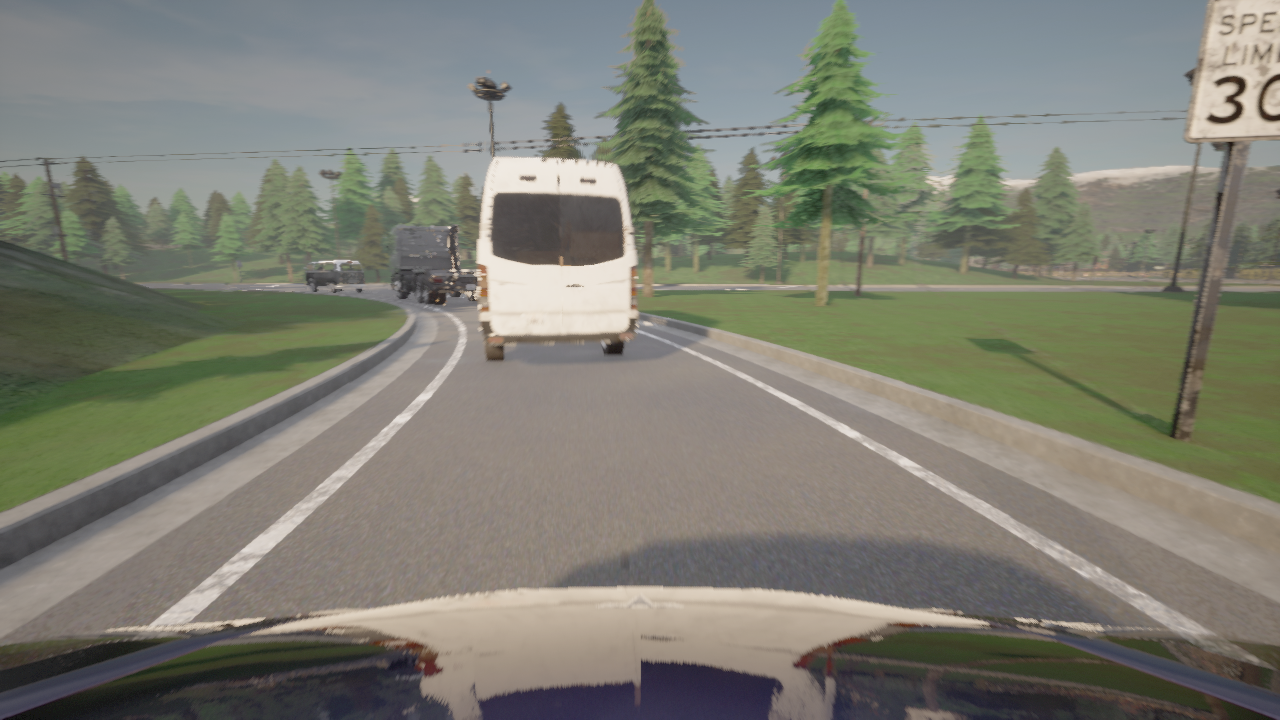cyclist: (0, 588, 1279, 719), (478, 157, 637, 361), (382, 225, 478, 304), (304, 259, 366, 293)
